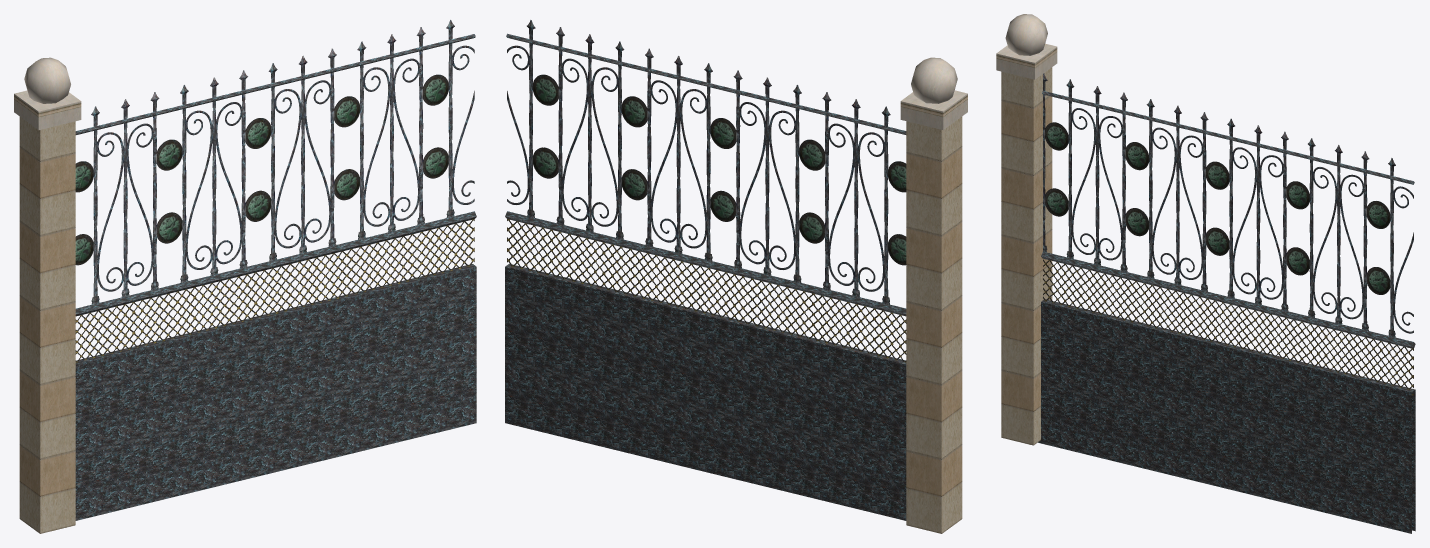
File: thm_nboo_imprv_metal_fence_wall_lg_s02_l0.fbx
3 renders of one model, left to right at view 1: azimuth 30°, elevation 25°; view 2: azimuth 150°, elevation 25°; view 3: azimuth 330°, elevation 25°, orthographic. The views are drawn at different scales.
Parts seen in each view (by area): view 1: mesh_node; view 2: mesh_node; view 3: mesh_node.
Part boxes in pixels (left/top/right/bottom): mesh_node: left=14, top=20, right=476, bottom=533; mesh_node: left=505, top=20, right=967, bottom=533; mesh_node: left=996, top=14, right=1415, bottom=533.
Bounding box in the file's own units: 6.3 × 6.26 × 0.6.
